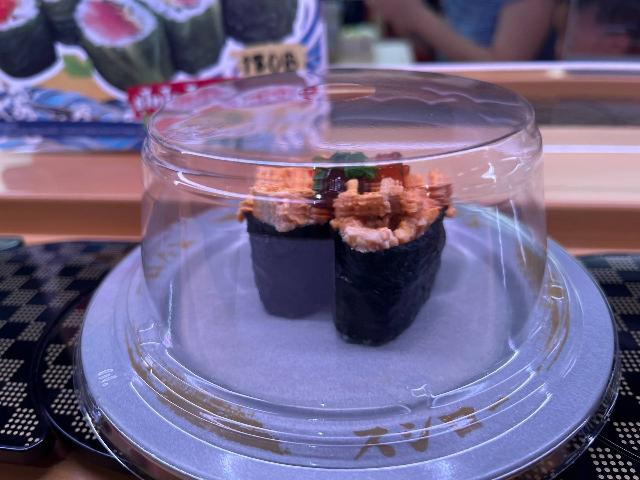janwhite: (109, 229, 613, 464)
